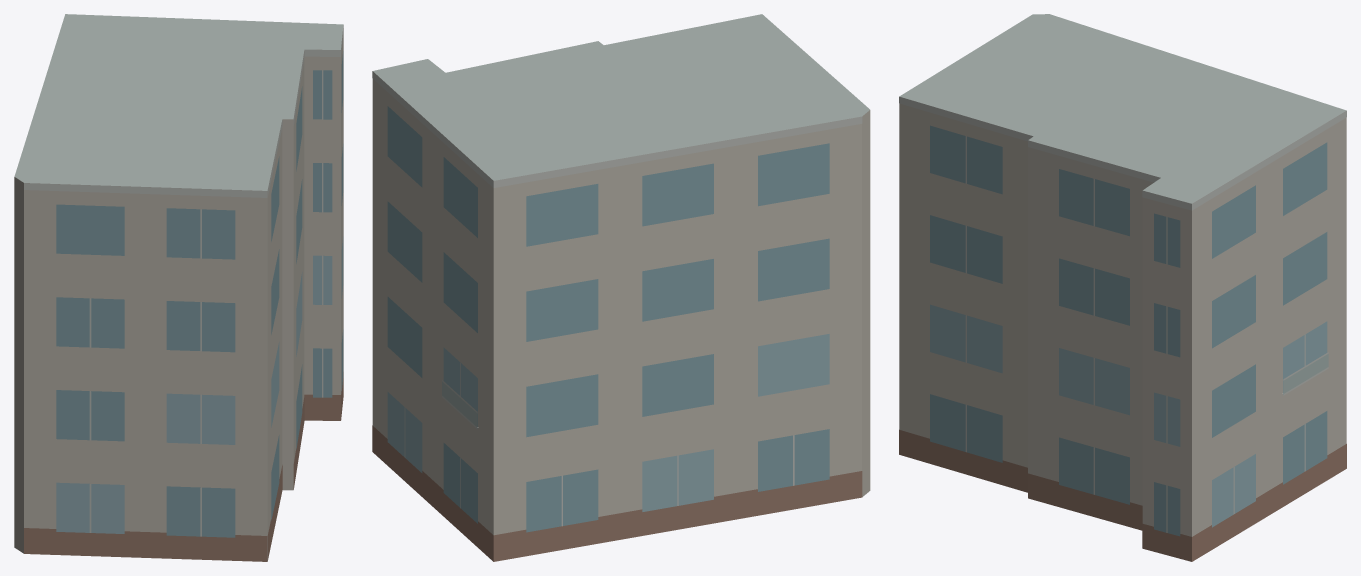
The model's file is survey-upis-33013410.glb.
3 views of the same model, side by side, from view 1: azimuth 30°, elevation 25°; view 2: azimuth 150°, elevation 25°; view 3: azimuth 270°, elevation 25° (orthographic). The views are drawn at different scales.
Visible parts, largest first — view 1: survey-upis-33013410.tmp; view 2: survey-upis-33013410.tmp; view 3: survey-upis-33013410.tmp.
Boxes of the visible parts, <box> form: survey-upis-33013410.tmp: <box>14,14,343,561</box>; survey-upis-33013410.tmp: <box>372,14,870,561</box>; survey-upis-33013410.tmp: <box>899,14,1346,561</box>.
Size of the model in its own units: 14.56 by 12.8 by 14.51.
